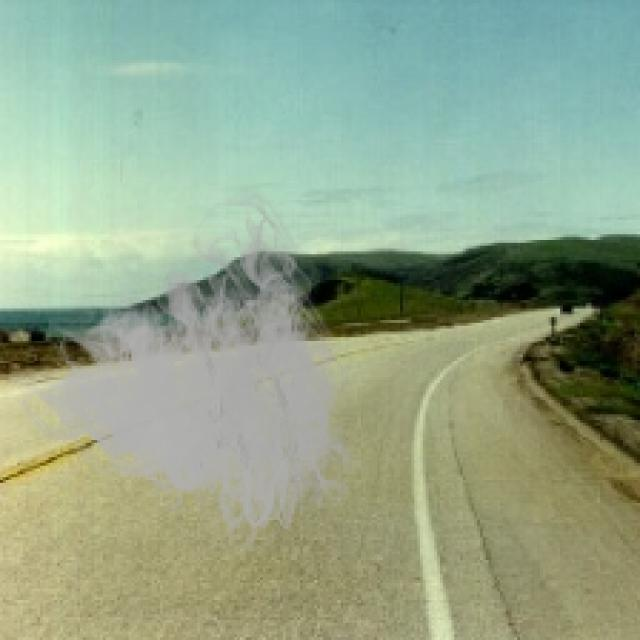smoke: (12, 186, 374, 563)
